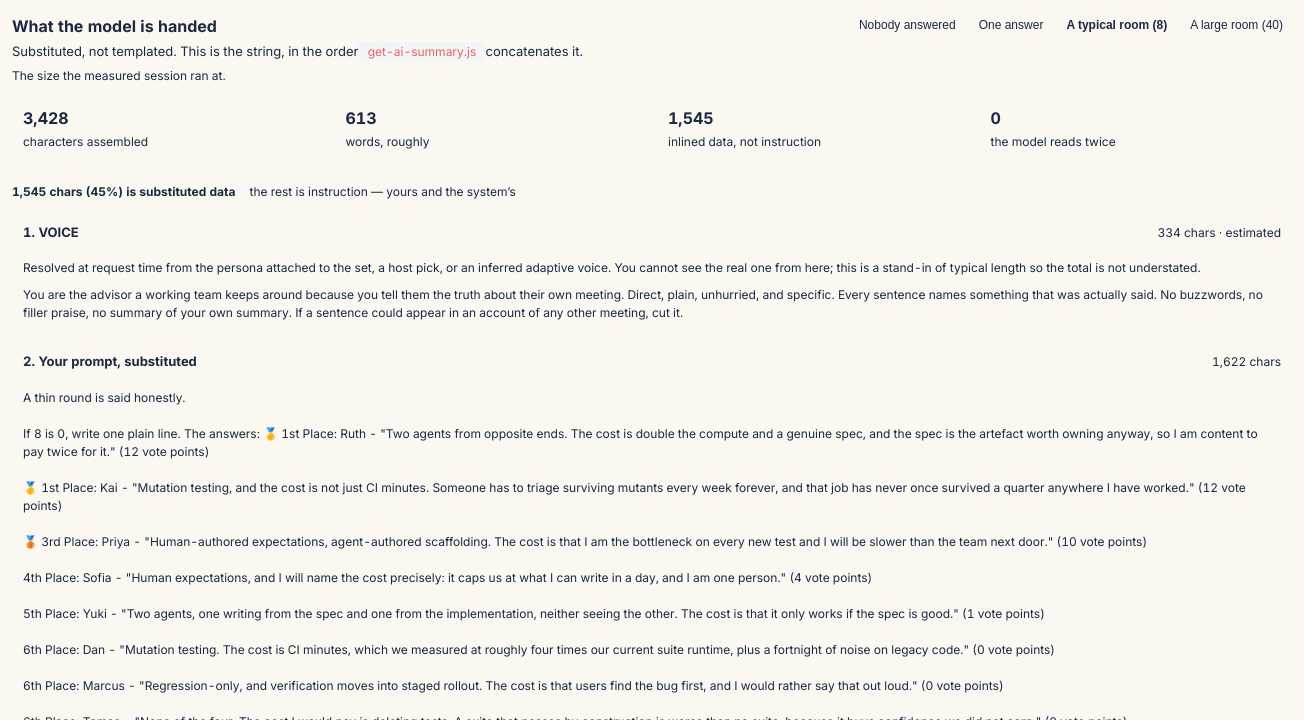
Test: the sample room, and the branches nobody has ever run › the empty round is reachable, and renders "If 0 is 0"
The width and height of the screenshot is (1304, 720).
Click the button "Nobody answered": (907, 25) 850,14 -> 965,36
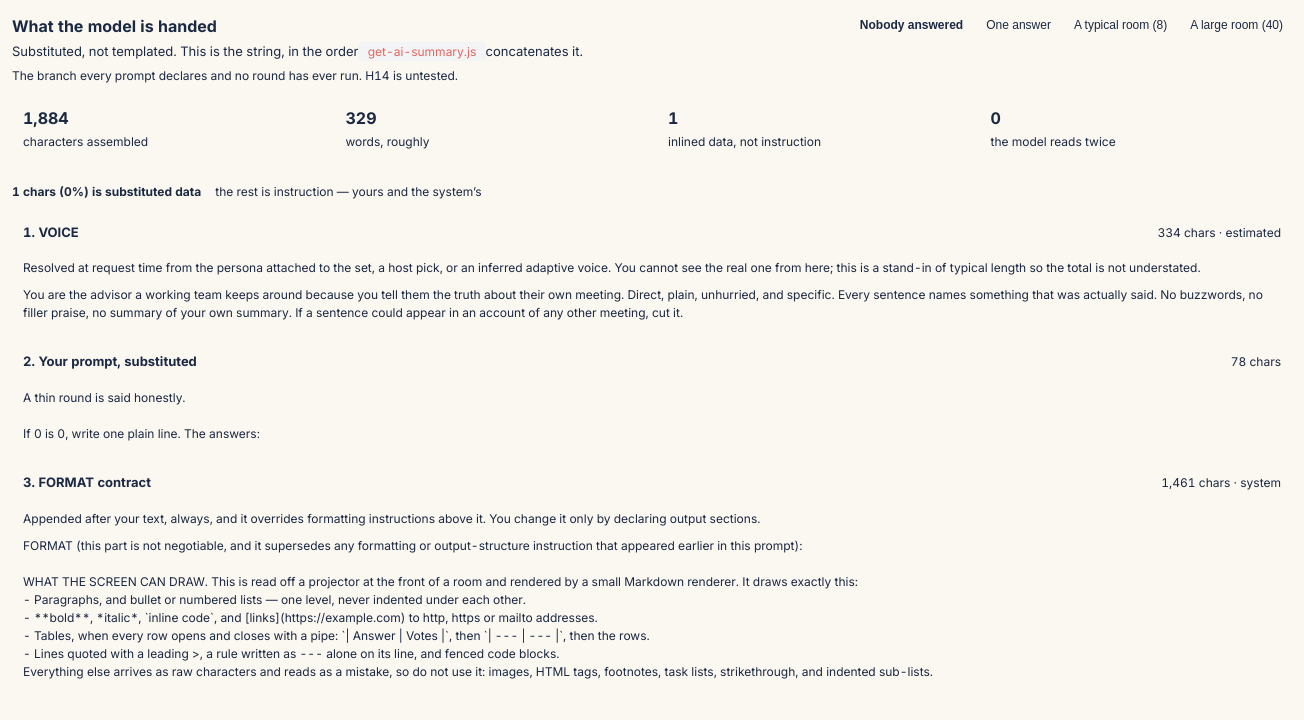
Expected: the text with test id "pap-body" shows "If 0 is 0", 23,390 -> 263,441
